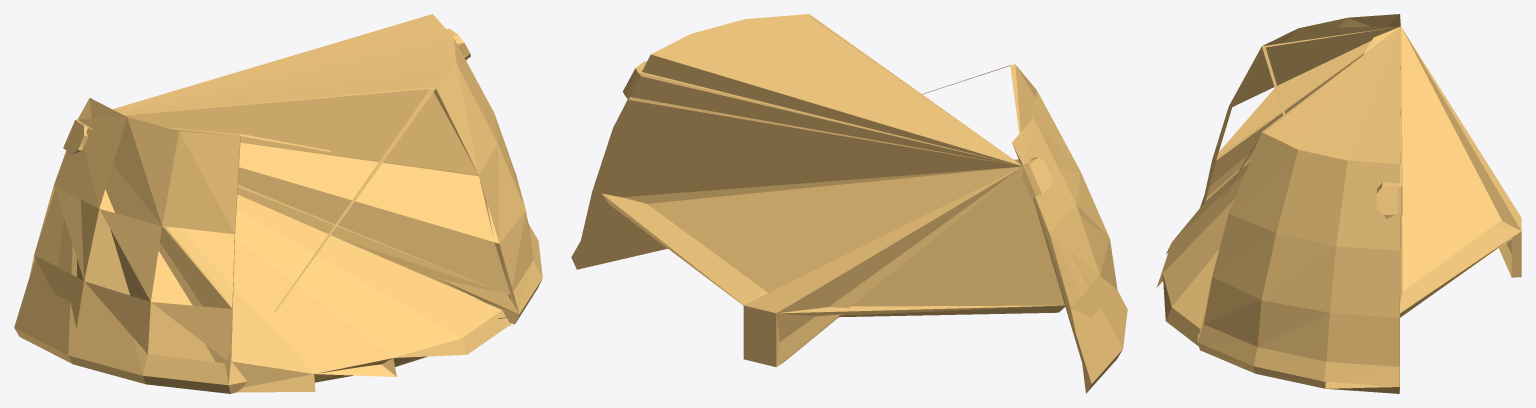
The model's file is S.S._Dolphin_part.003.obj.
3 views of the same model, side by side, from view 1: azimuth 30°, elevation 25°; view 2: azimuth 150°, elevation 25°; view 3: azimuth 270°, elevation 25° (orthographic). The views are drawn at different scales.
Parts seen in each view (by area): view 1: S.S._Dolphin_part.003; view 2: S.S._Dolphin_part.003; view 3: S.S._Dolphin_part.003.
Boxes of the visible parts, left/top/right/bottom form: S.S._Dolphin_part.003: left=14, top=14, right=542, bottom=393; S.S._Dolphin_part.003: left=571, top=14, right=1127, bottom=393; S.S._Dolphin_part.003: left=1156, top=14, right=1521, bottom=393.
Bounding box in the file's own units: 6.37 × 2.73 × 4.54.
